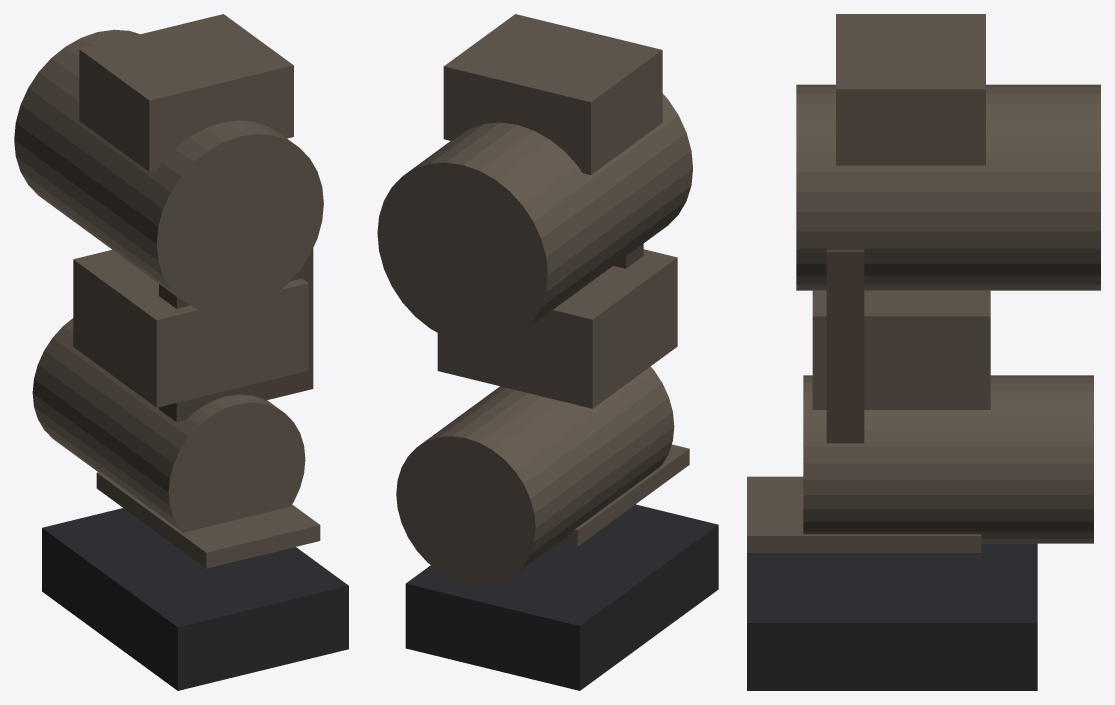
File: leg_left_vagrant_01.obj
The picture shows the model from 3 angles, left to right: view 1: azimuth 30°, elevation 25°; view 2: azimuth 150°, elevation 25°; view 3: azimuth 270°, elevation 25°; orthographic projection. The views are drawn at different scales.
Bounding box in the file's own units: 0.455 × 1.4 × 0.755.
